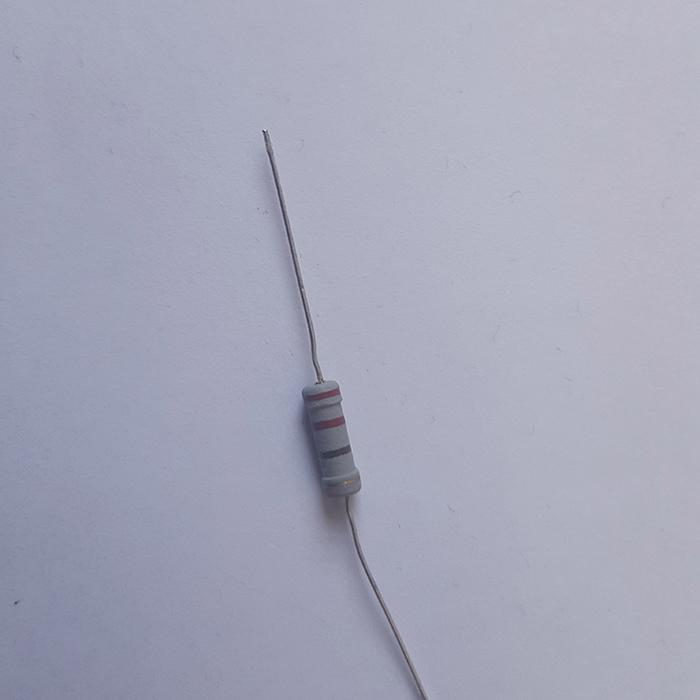resistor: (300, 376, 363, 497)
